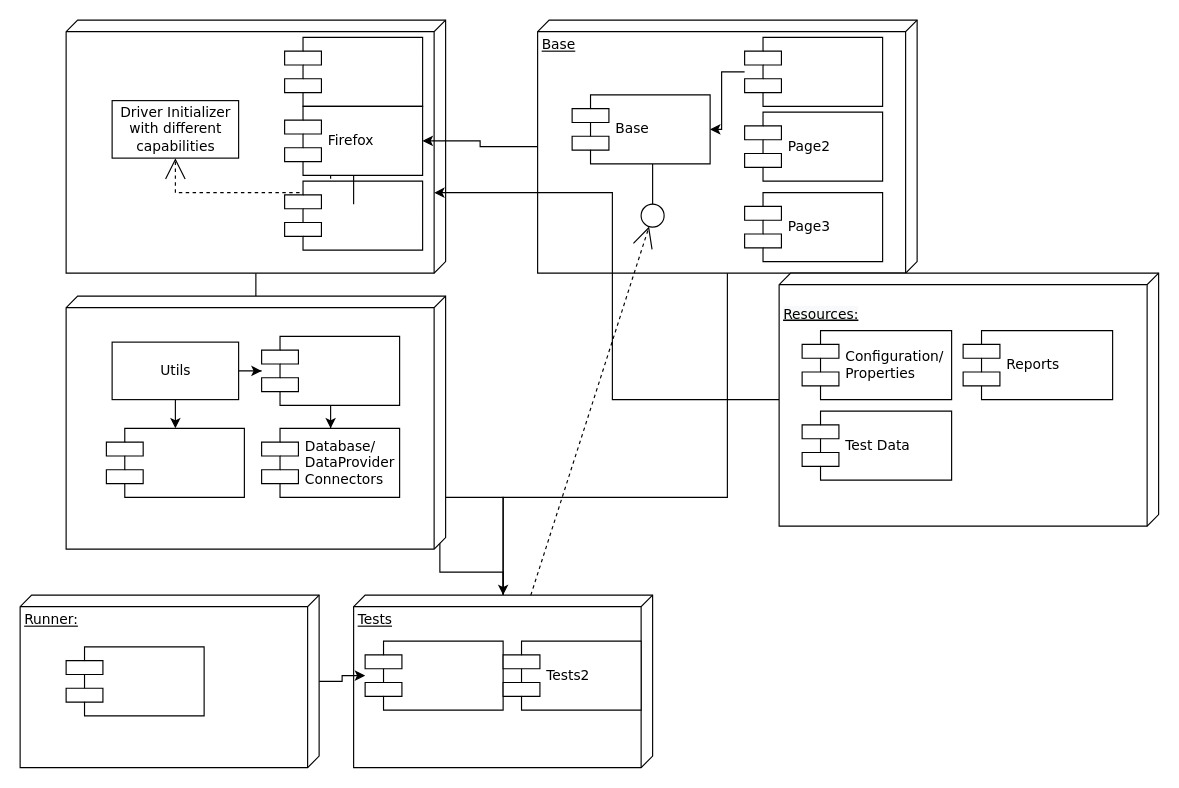
Some shapes in this 1179 by 788 pixel diagram are drawn without their labels. The centre of each missing label's shape, as x and y in pixels:
"Chrome" belongs at point 353,71.
"Edge" belongs at point 353,215.
"Page1" belongs at point 813,71.
"Reports Generators" belongs at point 174,462.
"Screenshots" belongs at point 330,370.
"TestNGxml" belongs at point 134,681.
"Tests1" belongs at point 433,675.
